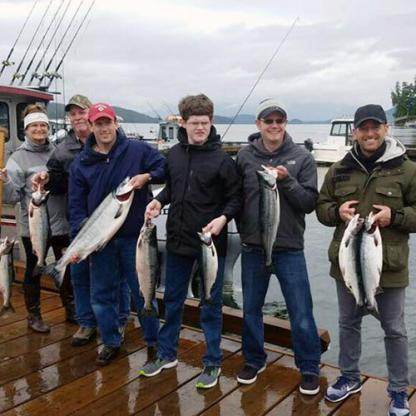fish: (38, 174, 134, 288), (253, 163, 280, 281), (337, 211, 364, 315), (134, 218, 159, 316), (360, 210, 382, 321), (26, 183, 51, 276), (196, 226, 218, 310), (0, 234, 15, 318)
